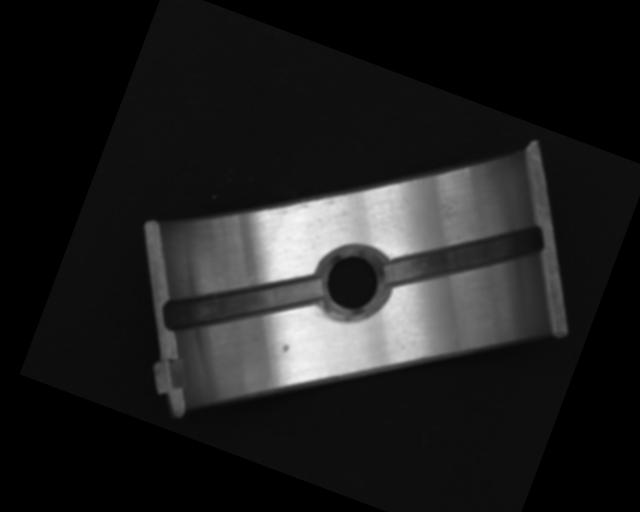bruise: (280, 343, 292, 355)
gap: (380, 182, 549, 330), (157, 229, 326, 374)
hole: (313, 239, 395, 327)
